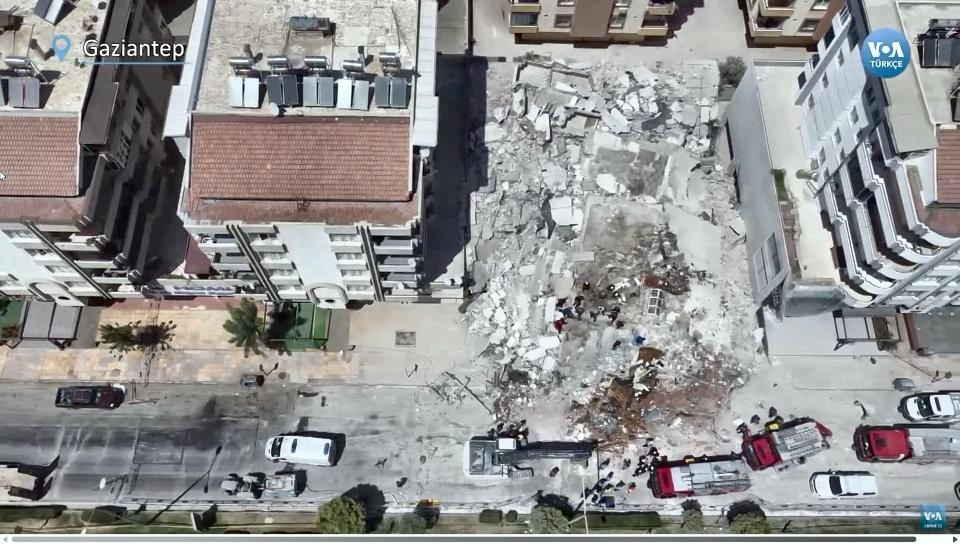kapali: (443, 386, 793, 516)
